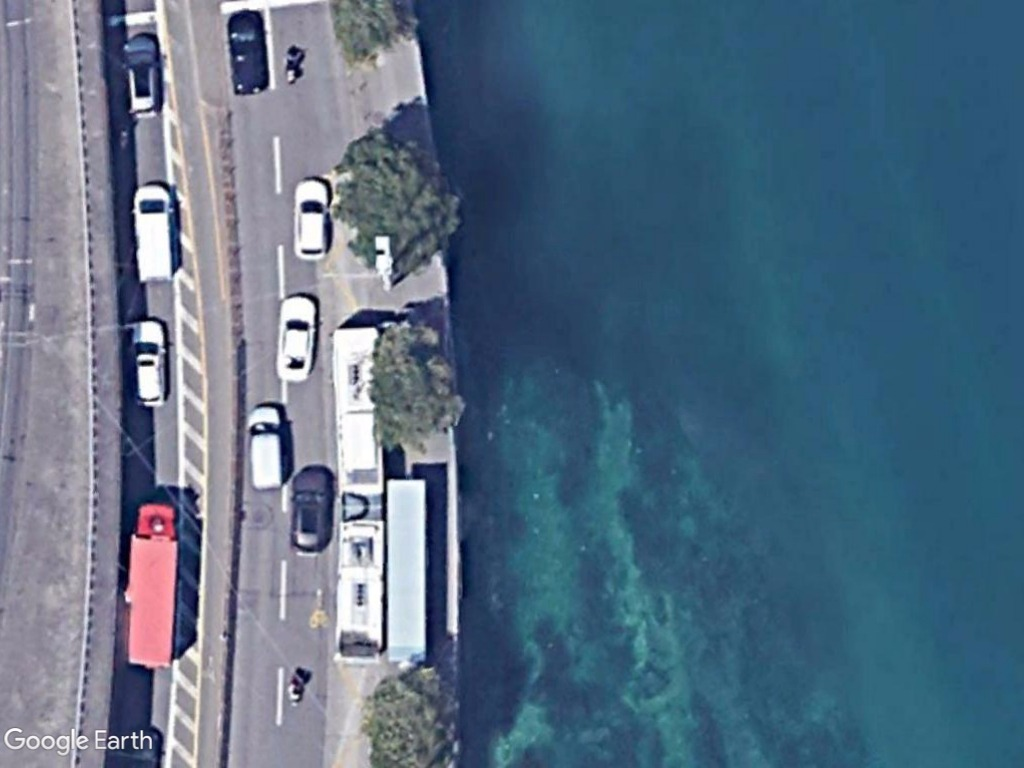bus: (328, 321, 386, 507), (332, 511, 389, 666)
car: (126, 315, 173, 409), (274, 292, 321, 384), (289, 173, 334, 263)
truck: (120, 502, 184, 673)
van: (130, 180, 183, 285), (245, 402, 289, 492)
